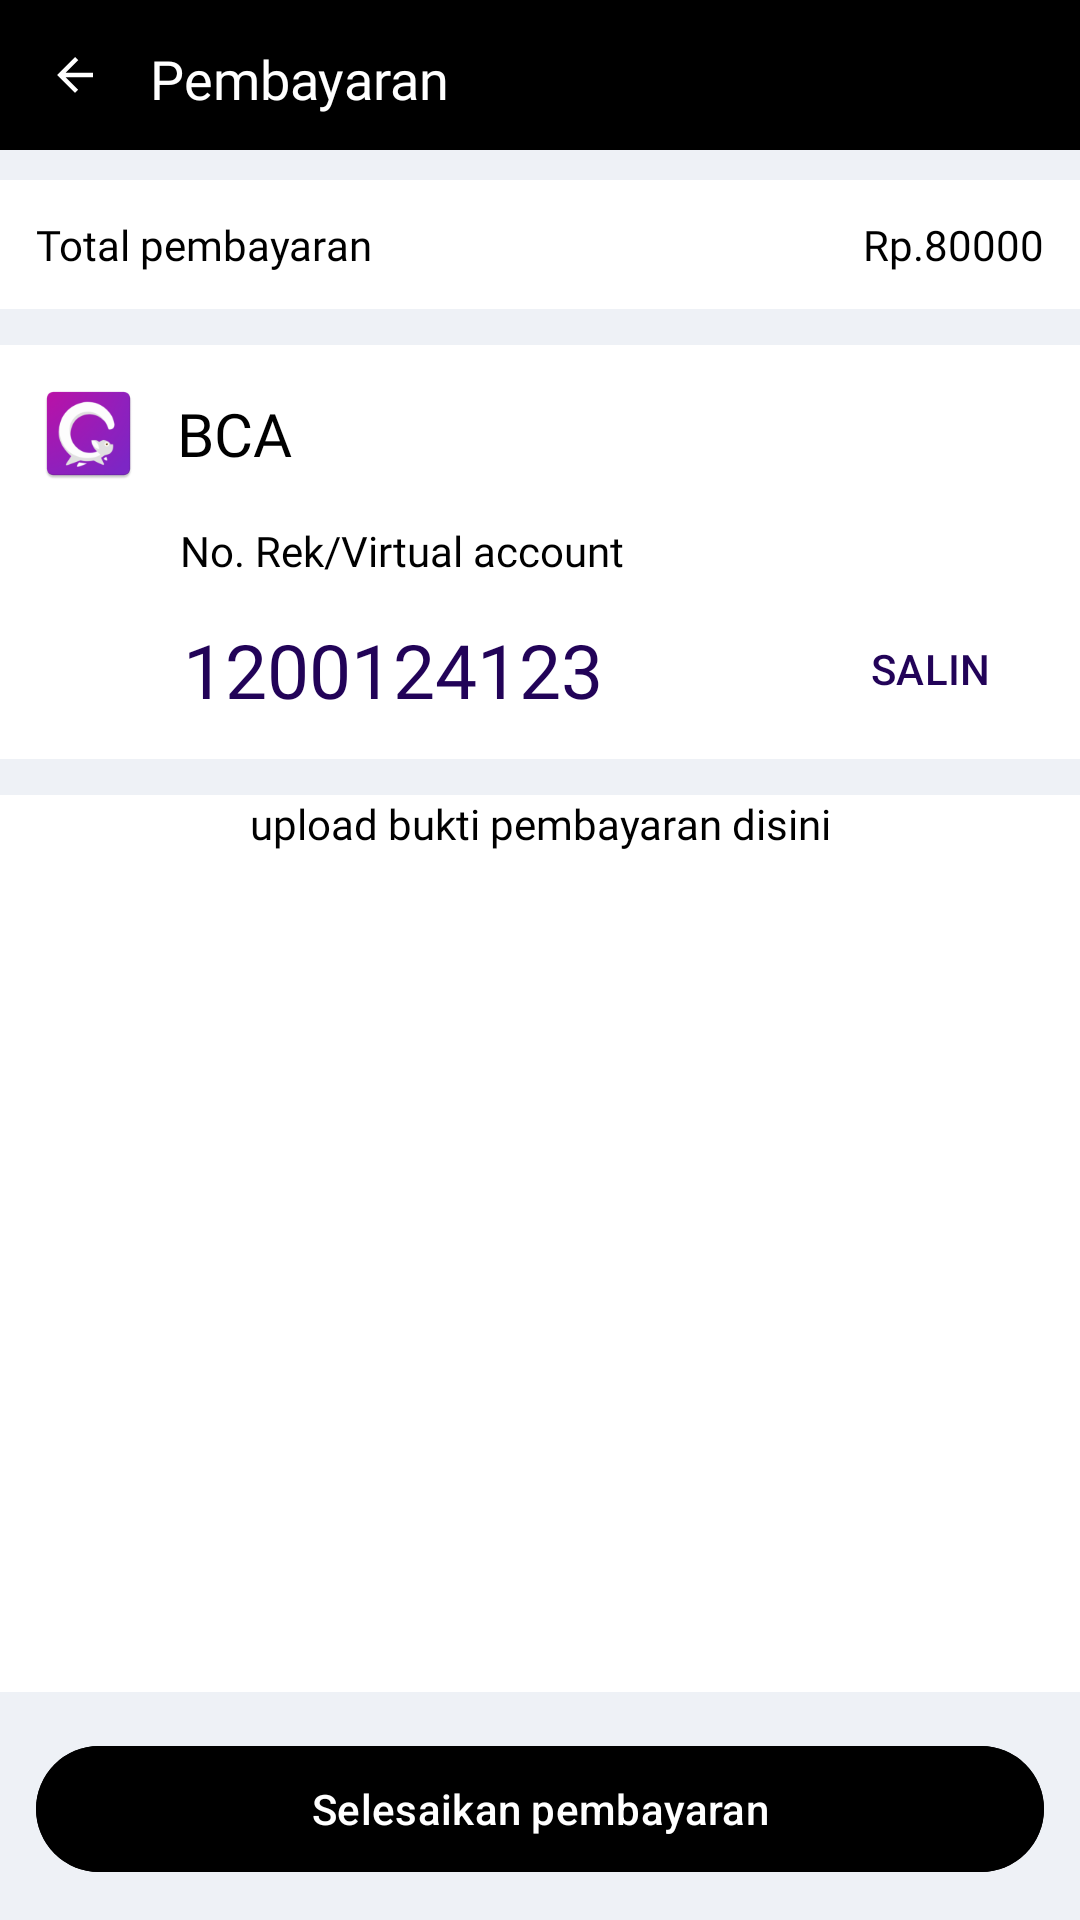

Screen size 1080px x 1920px. Icon name, then its box in pixels as detection(x1, y1, x2, y2):
arrow back: detection(57, 57, 93, 93)
